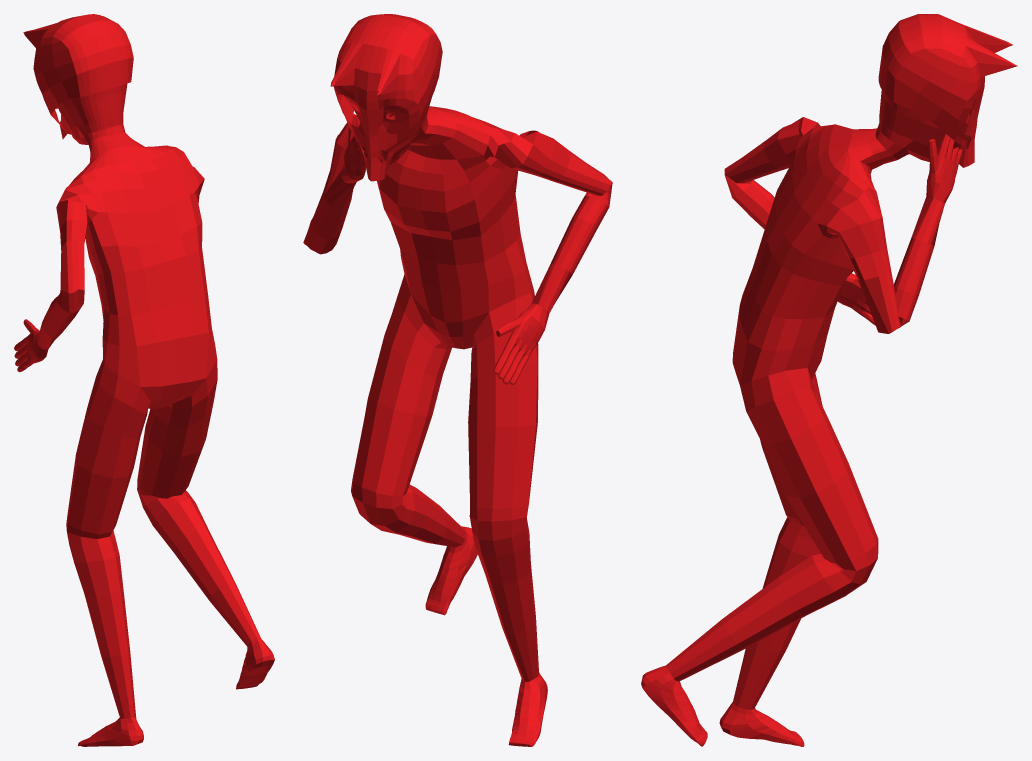
File: correrE_000083.obj
3 renders of one model, left to right at view 1: azimuth 30°, elevation 25°; view 2: azimuth 150°, elevation 25°; view 3: azimuth 270°, elevation 25°, orthographic. The views are drawn at different scales.
Visible parts, largest first — view 1: Plane.002_Plane.001; view 2: Plane.002_Plane.001; view 3: Plane.002_Plane.001.
Part boxes in pixels (x1=…): Plane.002_Plane.001: x1=14, y1=14, x2=274, y2=746; Plane.002_Plane.001: x1=303, y1=14, x2=612, y2=746; Plane.002_Plane.001: x1=641, y1=14, x2=1017, y2=746.
Size of the model in its own units: 2.12 by 6.69 by 3.04.
